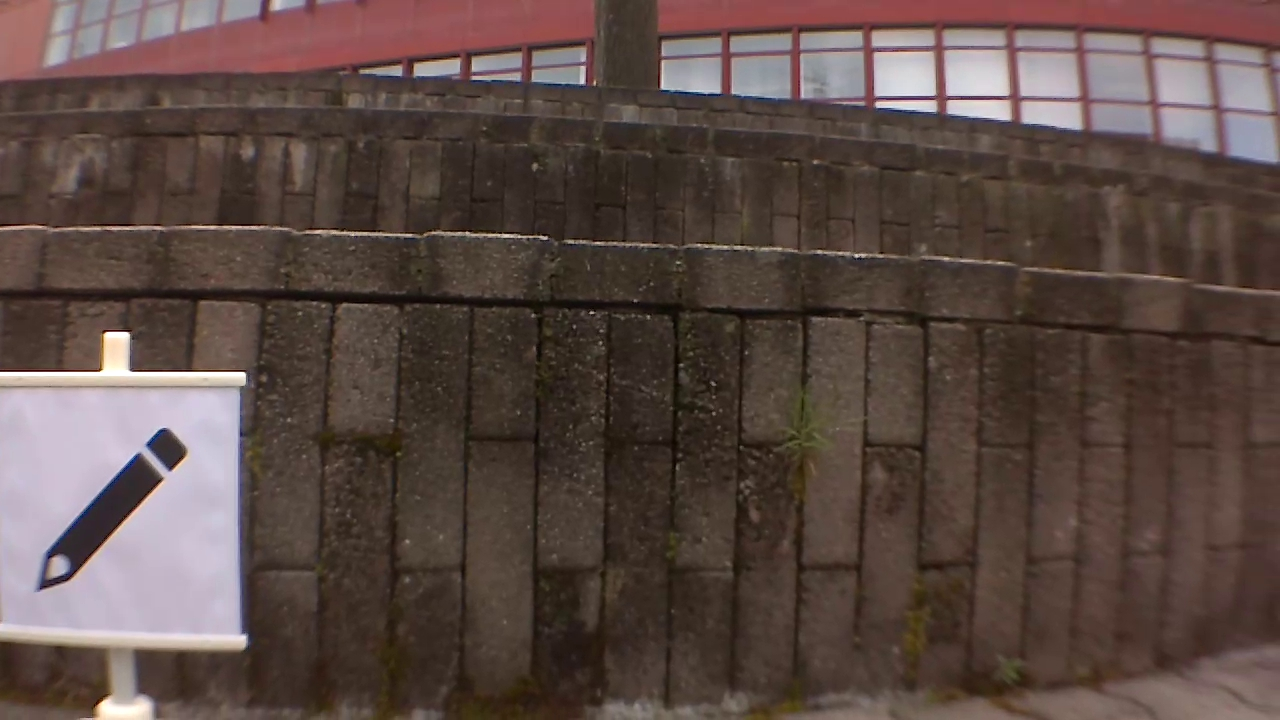pencil: (34, 425, 185, 597)
